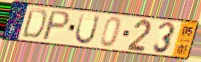0: (98, 16, 122, 49)
2: (126, 18, 153, 54)
3: (151, 21, 177, 55)
D: (20, 7, 48, 40)
P: (40, 9, 72, 42)
U: (73, 12, 102, 46)
